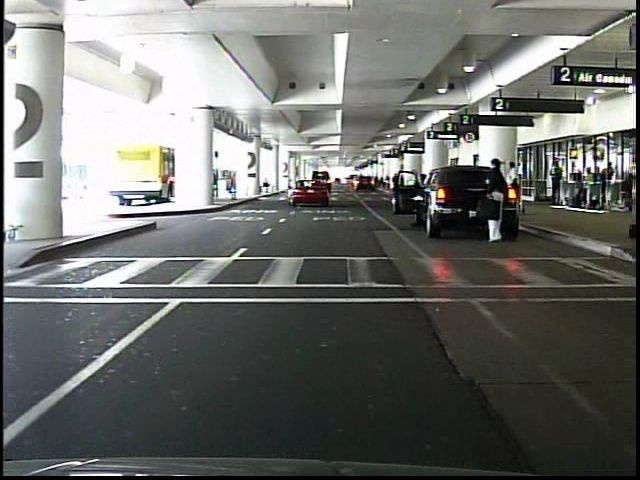person: (483, 160, 511, 248), (502, 160, 523, 216), (549, 161, 562, 205)
